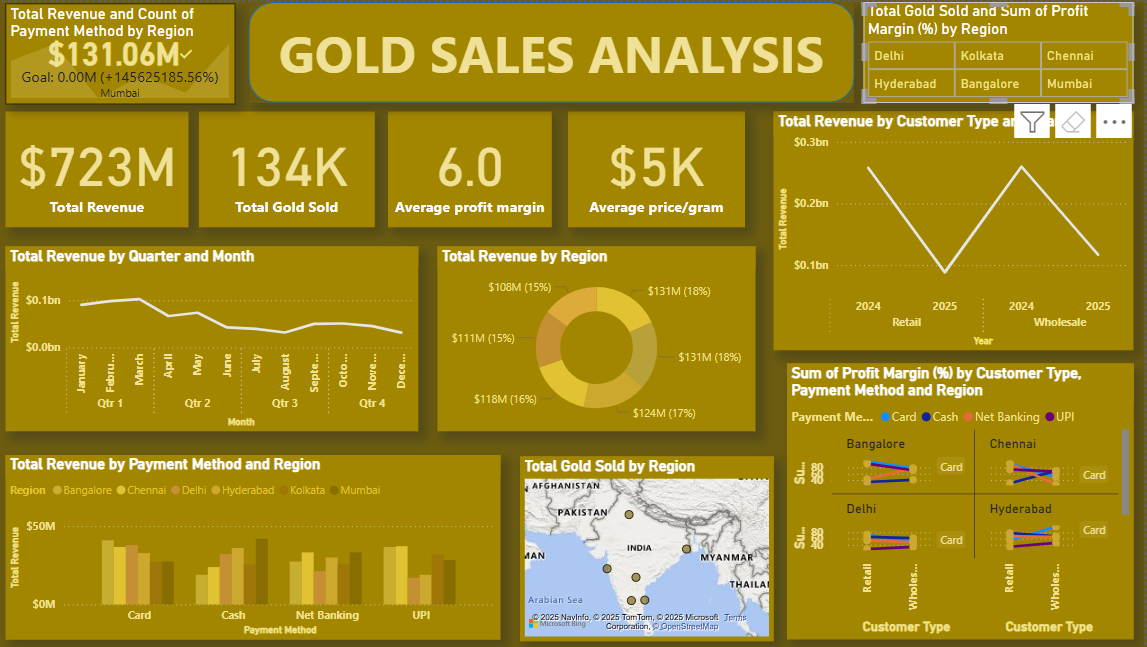

What the dashboard file says about the page in this screenshot:
{"tool":"powerbi","page":{"name":"Page 1","canvas":[1280,720],"ordinal":0},"visuals":[{"type":"card","fields":{"Values":["Gold_Sales_India (1).Total Revenue"]},"box":[15,121.7,203.3,128.3],"z":0},{"type":"card","fields":{"Values":["Gold_Sales_India (1).Total Gold Sold"]},"box":[230,121.7,195,128.3],"z":1000},{"type":"card","fields":{"Values":["Gold_Sales_India (1).Average price/gram"]},"box":[640,121.7,196.7,128.3],"z":2000},{"type":"card","fields":{"Values":["Gold_Sales_India (1).Average profit margin"]},"box":[440,121.7,181.7,128.3],"z":3000},{"type":"lineChart","fields":{"Y":["Gold_Sales_India (1).Total Revenue"],"Category":["Gold_Sales_India (1).Date.Variation.Date Hierarchy.Quarter","Gold_Sales_India (1).Date.Variation.Date Hierarchy.Month"]},"box":[15,271.7,458.3,205],"z":4000},{"type":"donutChart","fields":{"Category":["Gold_Sales_India (1).Region"],"Y":["Gold_Sales_India (1).Total Revenue"]},"box":[495,271.7,353.3,205],"z":5000},{"type":"clusteredColumnChart","fields":{"Category":["Gold_Sales_India (1).Payment Method"],"Y":["Gold_Sales_India (1).Total Revenue"],"Series":["Gold_Sales_India (1).Region"]},"box":[15,503.3,550,205],"z":6000},{"type":"map","fields":{"Category":["Gold_Sales_India (1).Region"]},"box":[586.7,505,281.7,205],"z":7000},{"type":"lineChart","fields":{"Y":["Gold_Sales_India (1).Total Revenue"],"Category":["Gold_Sales_India (1).Customer Type","Gold_Sales_India (1).Date.Variation.Date Hierarchy.Year"]},"box":[868.3,121.7,400,265],"z":8000},{"type":"lineChart","fields":{"Y":["Sum(Gold_Sales_India (1).Profit Margin (%))"],"Category":["Gold_Sales_India (1).Customer Type"],"Rows":["Gold_Sales_India (1).Region"],"Series":["Gold_Sales_India (1).Payment Method"]},"box":[883.3,401.7,385,306.7],"z":9000},{"type":"shape","box":[285,0,673.3,111.7],"z":10000},{"type":"kpi","fields":{"TrendLine":["Gold_Sales_India (1).Region"],"Indicator":["Gold_Sales_India (1).Total Revenue"],"Goal":["CountNonNull(Gold_Sales_India (1).Payment Method)"]},"box":[15,1.7,255,111.7],"z":11000},{"type":"advancedSlicerVisual","fields":{"Values":["Gold_Sales_India (1).Region"]},"box":[968.3,0,300,111.7],"z":12000}]}

Visuals, with their boxes in screenshot pixels (x1, y1, x2, y2), scaled from the page's 1280x720 canvas onto the 1147x647 screenshot:
card - Gold_Sales_India (1).Total Revenue: left=13, top=109, right=196, bottom=225
card - Gold_Sales_India (1).Total Gold Sold: left=206, top=109, right=381, bottom=225
card - Gold_Sales_India (1).Average price/gram: left=574, top=109, right=750, bottom=225
card - Gold_Sales_India (1).Average profit margin: left=394, top=109, right=557, bottom=225
lineChart - Gold_Sales_India (1).Total Revenue x Gold_Sales_India (1).Date.Variation.Date Hierarchy.Quarter: left=13, top=244, right=424, bottom=428
donutChart - Gold_Sales_India (1).Region x Gold_Sales_India (1).Total Revenue: left=444, top=244, right=760, bottom=428
clusteredColumnChart - Gold_Sales_India (1).Payment Method x Gold_Sales_India (1).Total Revenue: left=13, top=452, right=506, bottom=636
map - Gold_Sales_India (1).Region: left=526, top=454, right=778, bottom=638
lineChart - Gold_Sales_India (1).Total Revenue x Gold_Sales_India (1).Customer Type: left=778, top=109, right=1137, bottom=347
lineChart - Sum(Gold_Sales_India (1).Profit Margin (%)) x Gold_Sales_India (1).Customer Type: left=792, top=361, right=1137, bottom=637
shape: left=255, top=0, right=859, bottom=100
kpi - Gold_Sales_India (1).Region x Gold_Sales_India (1).Total Revenue: left=13, top=2, right=242, bottom=102
advancedSlicerVisual - Gold_Sales_India (1).Region: left=868, top=0, right=1137, bottom=100
